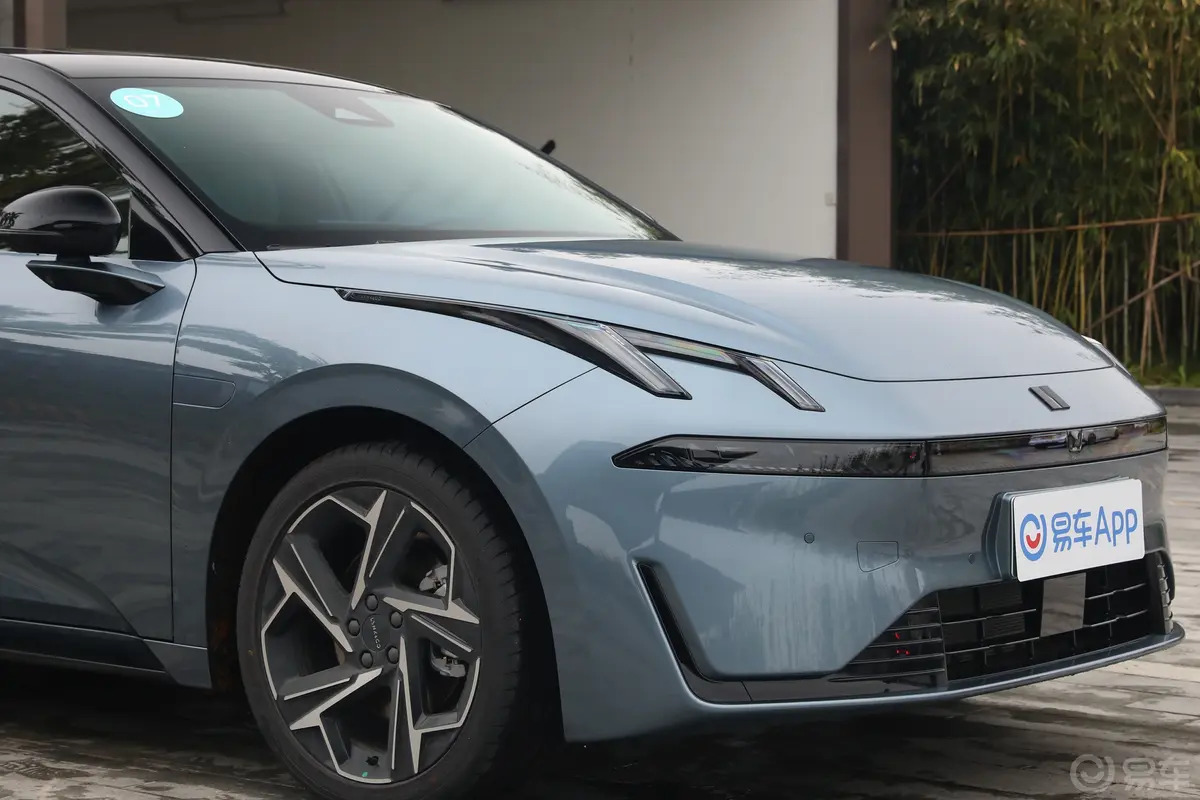LINK&CO: (1029, 385, 1070, 410)
